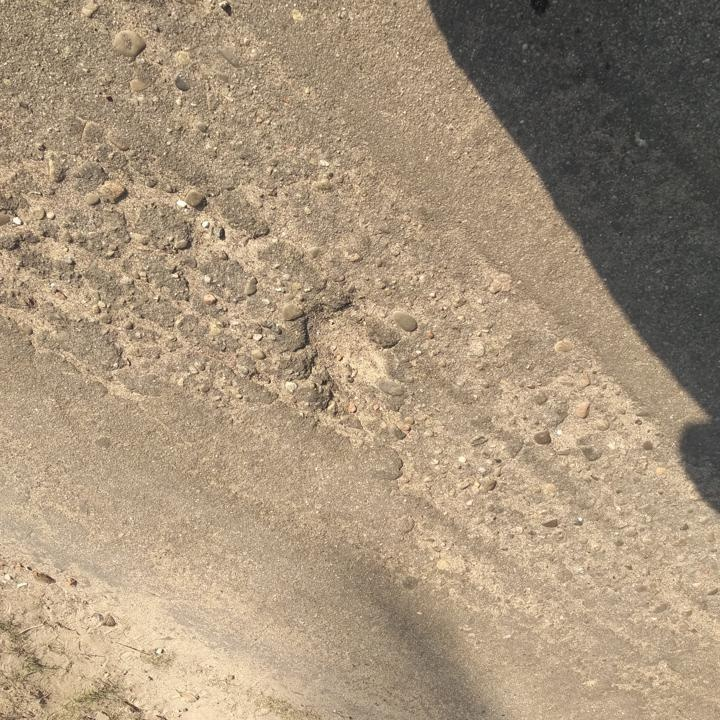pothole: (294, 298, 385, 405)
